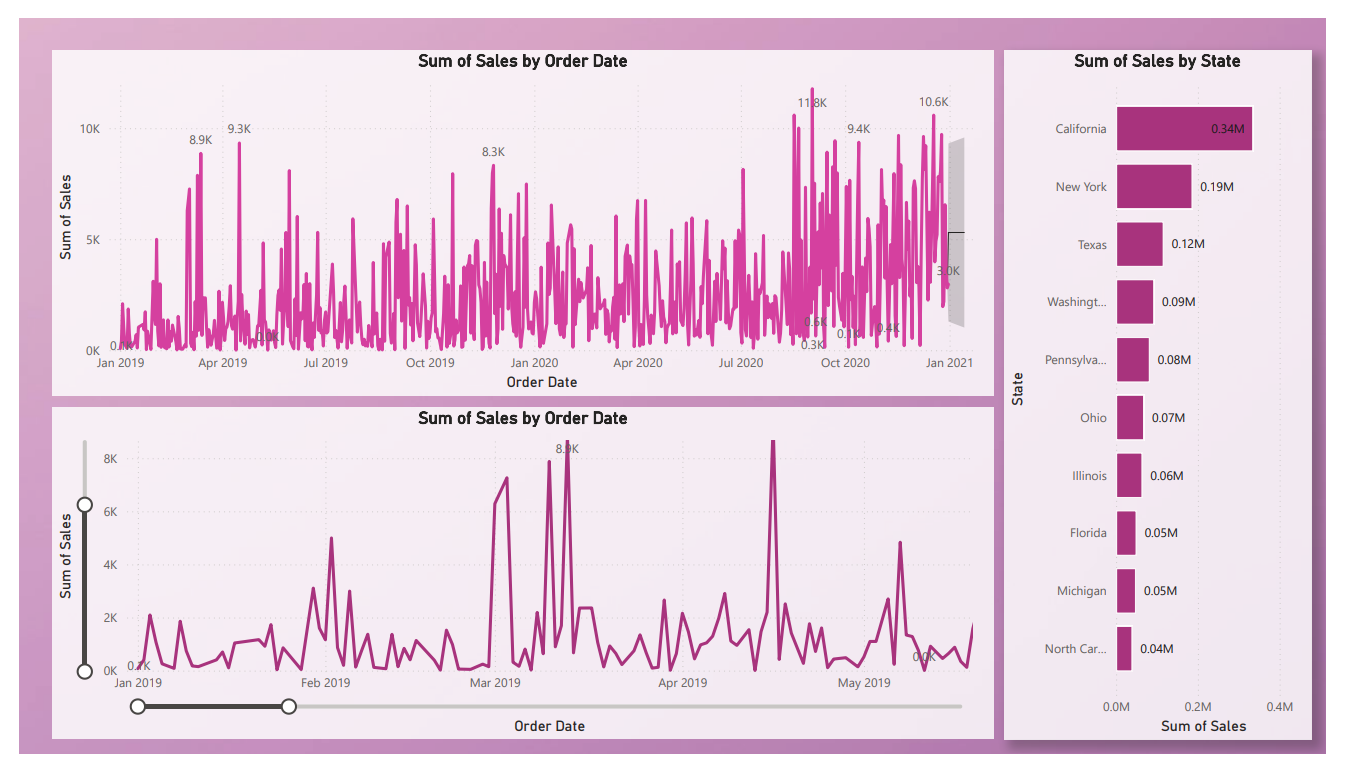

Layout of this report page (visuals, bound fields, positions):
{"tool":"powerbi","page":{"name":"Forecasting","canvas":[1280,720],"ordinal":1},"visuals":[{"type":"lineChart","fields":{"Y":["Sum(Supply Chain.Sales)"],"Category":["Supply Chain.Order Date"]},"box":[31.8,30.6,923.2,338.7],"z":0},{"type":"lineChart","fields":{"Y":["Sum(Supply Chain.Sales)"],"Category":["Supply Chain.Order Date"]},"box":[32,380.9,923,325.3],"z":1000},{"type":"clusteredBarChart","fields":{"Category":["Supply Chain.State"],"Y":["Sum(Supply Chain.Sales)"]},"box":[964.7,30.6,301.7,675.6],"z":2000}]}

Visuals, with their boxes in screenshot pixels (x1, y1, x2, y2), scaled from the page's 1280x720 canvas onto the 1345x776 screenshot:
lineChart - Sum(Supply Chain.Sales) x Supply Chain.Order Date: [left=33, top=33, right=1003, bottom=398]
lineChart - Sum(Supply Chain.Sales) x Supply Chain.Order Date: [left=34, top=411, right=1003, bottom=761]
clusteredBarChart - Supply Chain.State x Sum(Supply Chain.Sales): [left=1014, top=33, right=1331, bottom=761]
